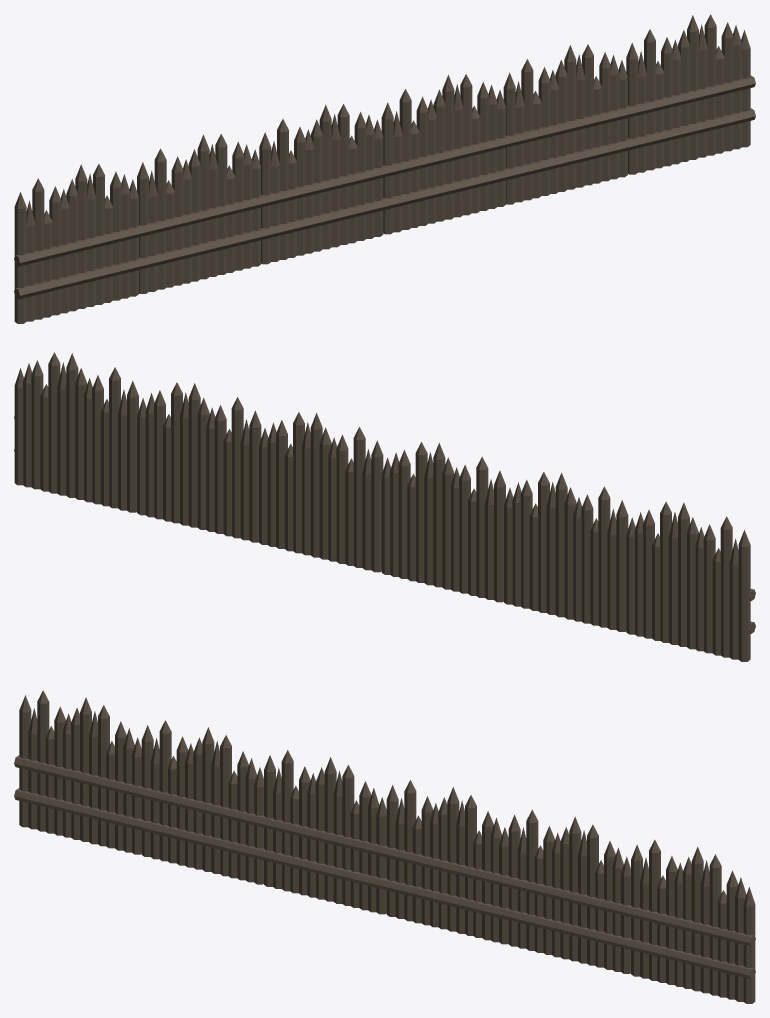
The model's file is fence.glb.
3 renders of one model, top to bottom at view 1: azimuth 30°, elevation 25°; view 2: azimuth 150°, elevation 25°; view 3: azimuth 330°, elevation 25°, orthographic.
Visible parts, largest first — view 1: pCylinder590 (×6); view 2: pCylinder590 (×6); view 3: pCylinder590 (×6).
Part boxes in pixels (x1,y1,x2,y2): pCylinder590 (×6): [14, 14, 755, 323]; pCylinder590 (×6): [14, 352, 755, 661]; pCylinder590 (×6): [14, 690, 755, 1003].
Bounding box in the file's own units: 24.07 × 4.46 × 0.4776.
